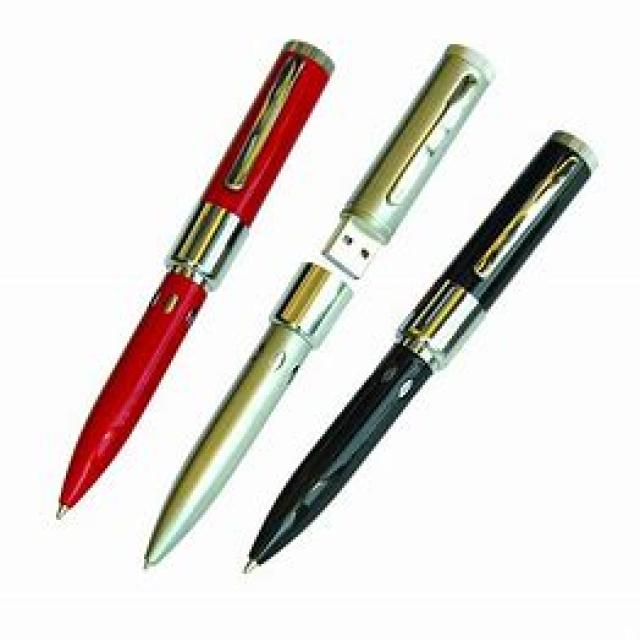pen: (48, 45, 599, 573)
